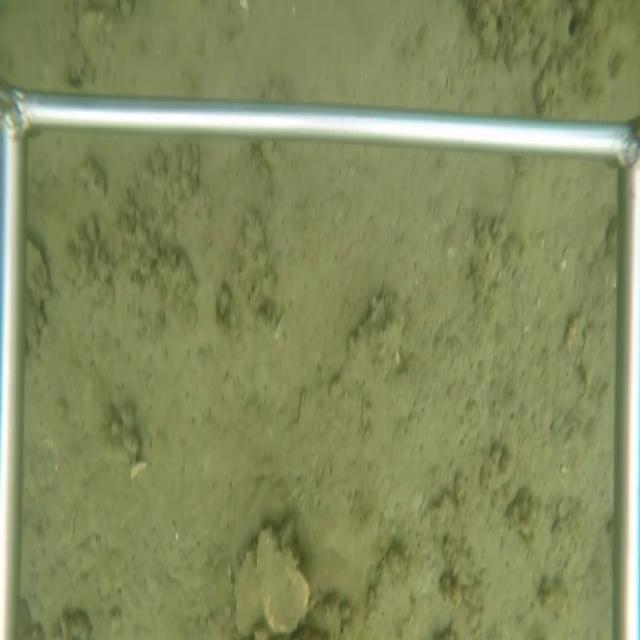Oyster-Indeterminate: (257, 524, 311, 639), (232, 543, 263, 633)
